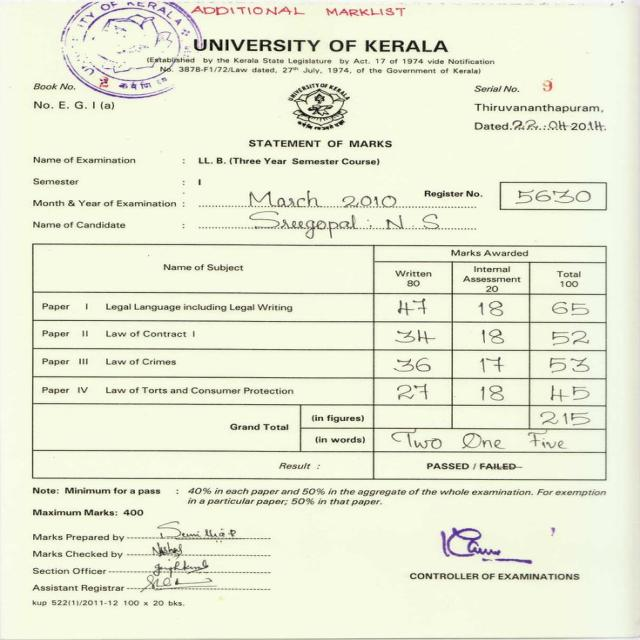signature: (428, 524, 570, 569)
stamp: (277, 80, 360, 133)
